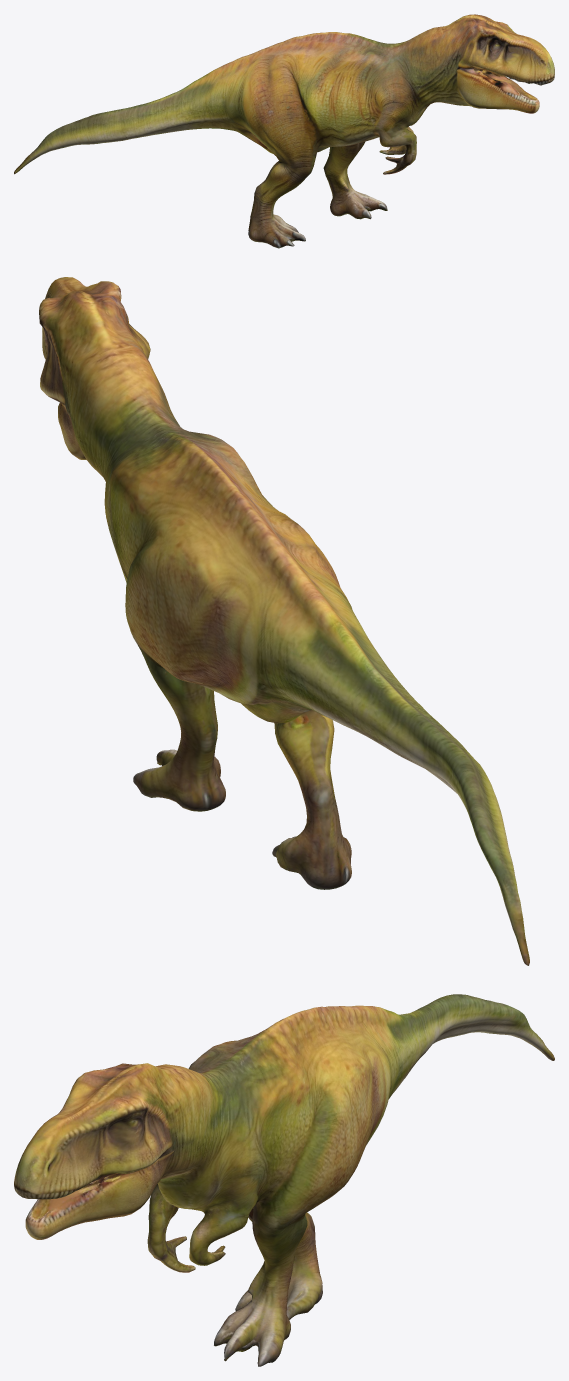
3 renders of one model, top to bottom at view 1: azimuth 30°, elevation 25°; view 2: azimuth 150°, elevation 25°; view 3: azimuth 270°, elevation 25°, orthographic. The views are drawn at different scales.
Parts seen in each view (by area): view 1: Mesh0; view 2: Mesh0; view 3: Mesh0.
Part boxes in pixels (x1,y1,x2,y2): Mesh0: (14, 14, 554, 248); Mesh0: (39, 277, 529, 965); Mesh0: (14, 994, 554, 1366).
Size of the model in its own units: 0.104 by 0.0559 by 0.0715.
1 material, 1 textured.
